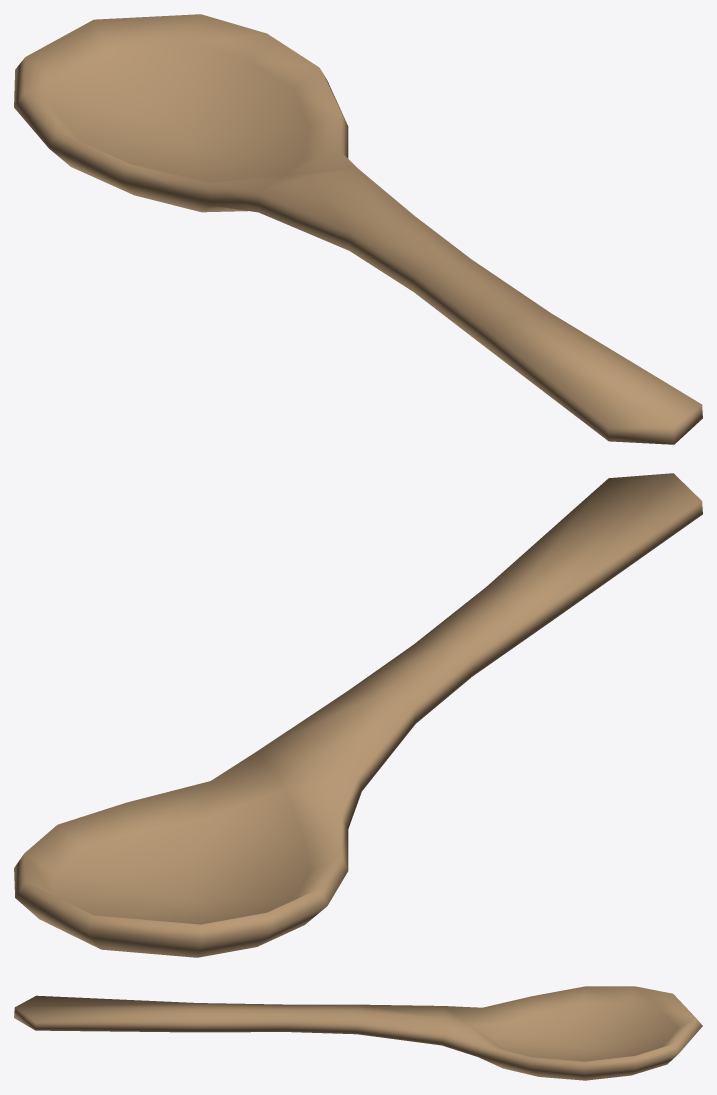
Rendered from spoon.fbx.
3 renders of one model, top to bottom at view 1: azimuth 30°, elevation 25°; view 2: azimuth 150°, elevation 25°; view 3: azimuth 270°, elevation 25°, orthographic. The views are drawn at different scales.
Parts seen in each view (by area): view 1: spoon; view 2: spoon; view 3: spoon.
Boxes of the visible parts, <box> form: spoon: <box>14,14,702,444</box>; spoon: <box>14,473,702,957</box>; spoon: <box>14,986,702,1080</box>.
Bounding box in the file's own units: 22.52 × 6.62 × 82.11.
